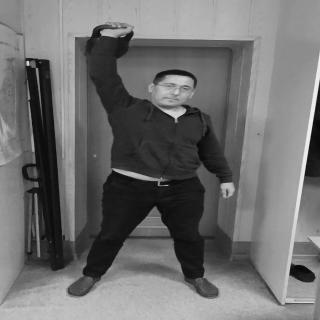kettlebell: (86, 25, 136, 58)
